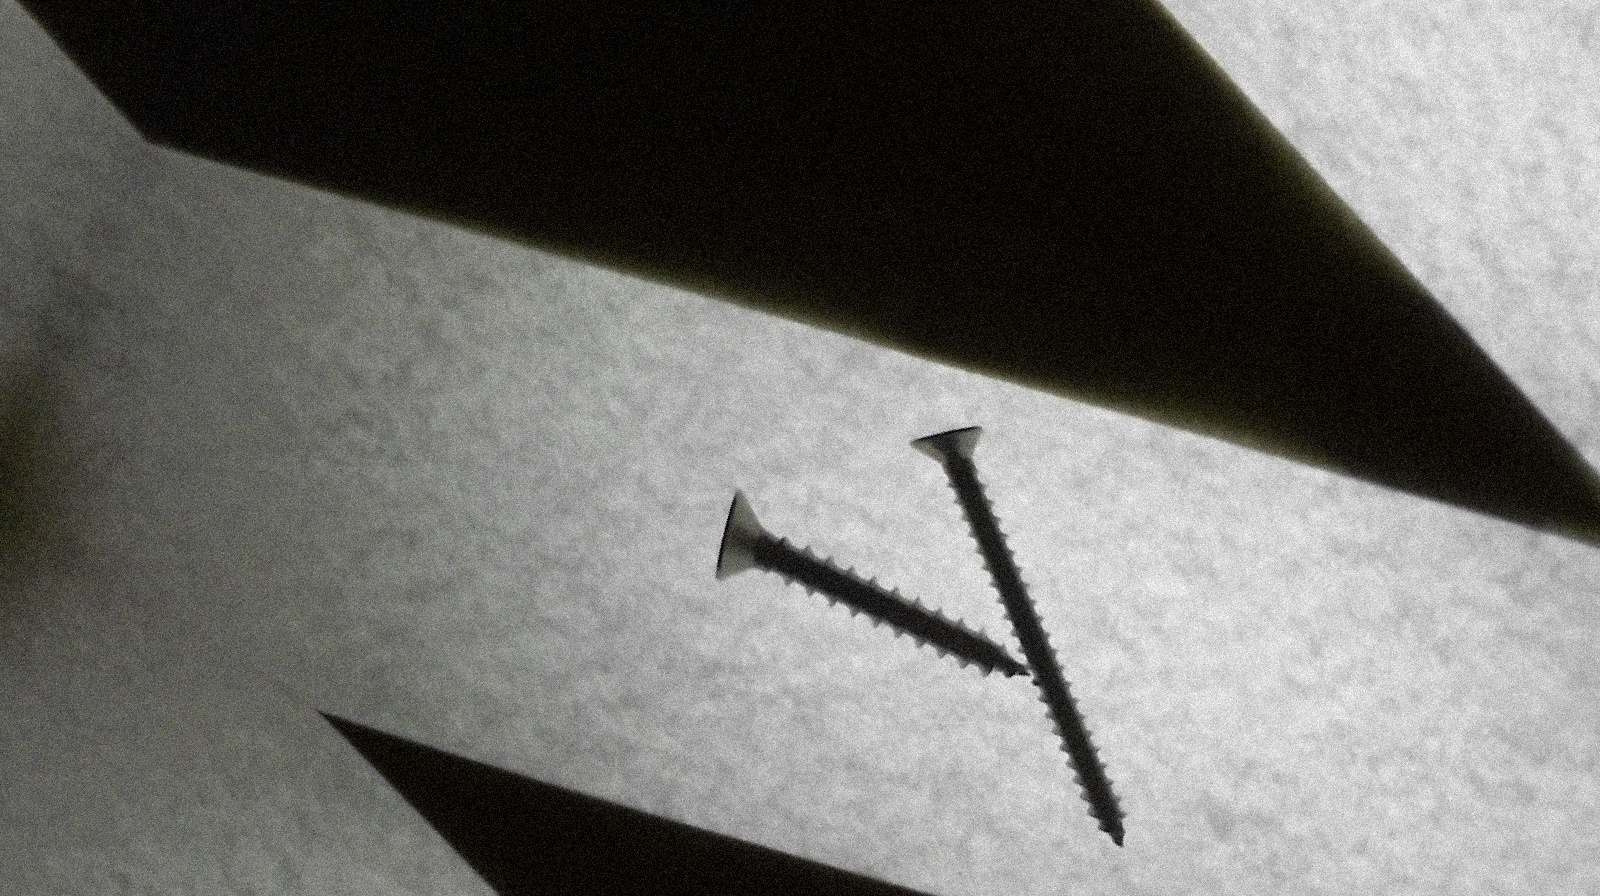S001: (696, 480, 1030, 756)
S002: (805, 387, 1249, 854)
